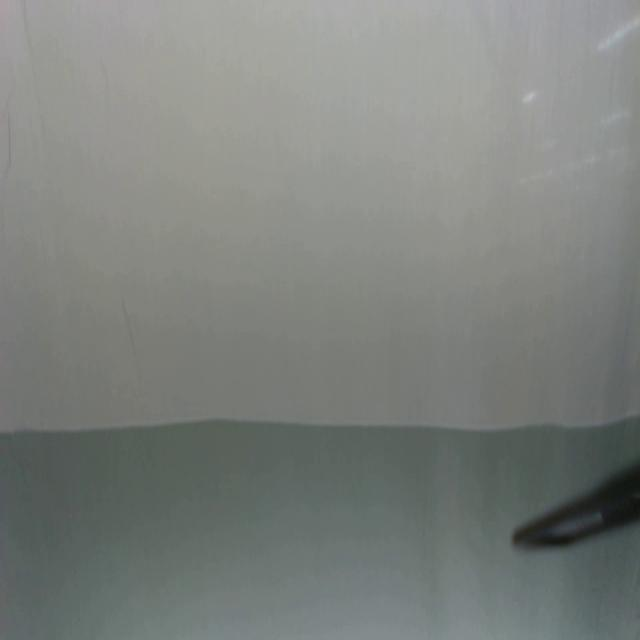crease: (20, 0, 46, 131), (121, 296, 137, 358), (6, 108, 13, 171)
